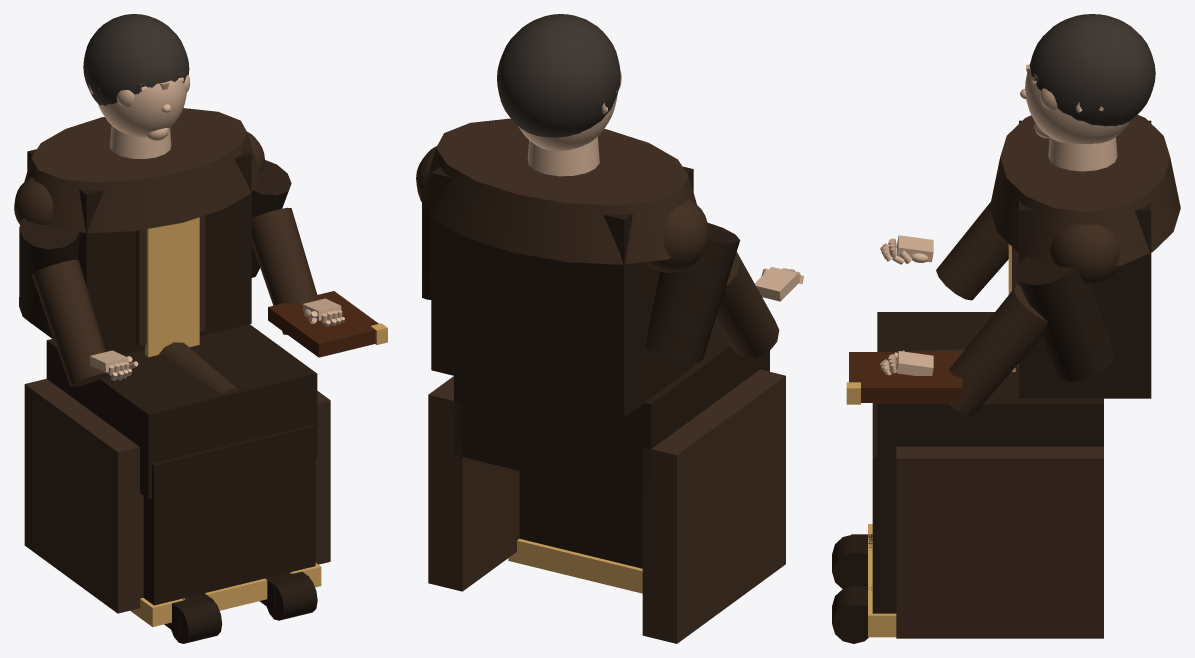
The model's file is adv_treasurer.glb.
3 views of the same model, side by side, from view 1: azimuth 30°, elevation 25°; view 2: azimuth 150°, elevation 25°; view 3: azimuth 270°, elevation 25° (orthographic). The views are drawn at different scales.
Parts seen in each view (by area): view 1: LowerBodyRobes, TorsoAssembly, RightArmAssembly, HeadAssembly, Cranium, LeftHand, RightHand; view 2: TorsoAssembly, LowerBodyRobes, HeadAssembly, RightArmAssembly, Cranium, LeftHand; view 3: LowerBodyRobes, TorsoAssembly, RightArmAssembly, HeadAssembly, Cranium, LeftHand, RightHand.
Boxes of the visible parts, bbox=[...] form: LowerBodyRobes: bbox=[24, 324, 330, 643]; TorsoAssembly: bbox=[14, 108, 260, 386]; RightArmAssembly: bbox=[247, 131, 387, 357]; HeadAssembly: bbox=[83, 14, 190, 140]; Cranium: bbox=[98, 80, 186, 137]; LeftHand: bbox=[89, 350, 138, 380]; RightHand: bbox=[302, 298, 344, 326]; TorsoAssembly: bbox=[420, 118, 779, 417]; LowerBodyRobes: bbox=[428, 322, 785, 643]; HeadAssembly: bbox=[497, 14, 621, 137]; RightArmAssembly: bbox=[416, 146, 436, 299]; Cranium: bbox=[518, 94, 617, 150]; LeftHand: bbox=[755, 266, 803, 301]; LowerBodyRobes: bbox=[832, 312, 1103, 643]; TorsoAssembly: bbox=[936, 114, 1180, 398]; RightArmAssembly: bbox=[846, 224, 1119, 416]; HeadAssembly: bbox=[1020, 14, 1155, 138]; Cranium: bbox=[1025, 69, 1131, 144]; LeftHand: bbox=[880, 235, 933, 264]; RightHand: bbox=[880, 350, 933, 375].
Bounding box in the file's own units: 0.7456 × 1.38 × 0.7385.
